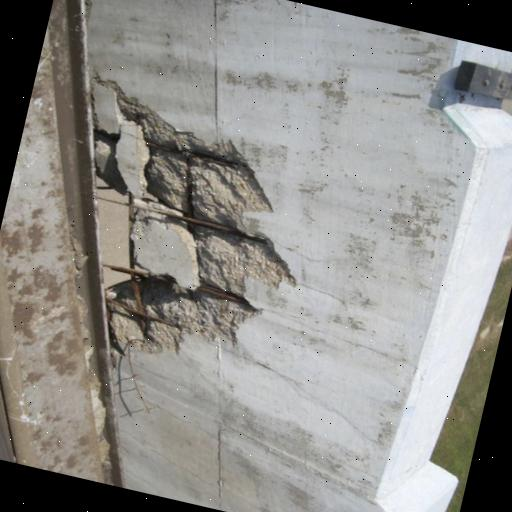spalling: (88, 80, 282, 351)
